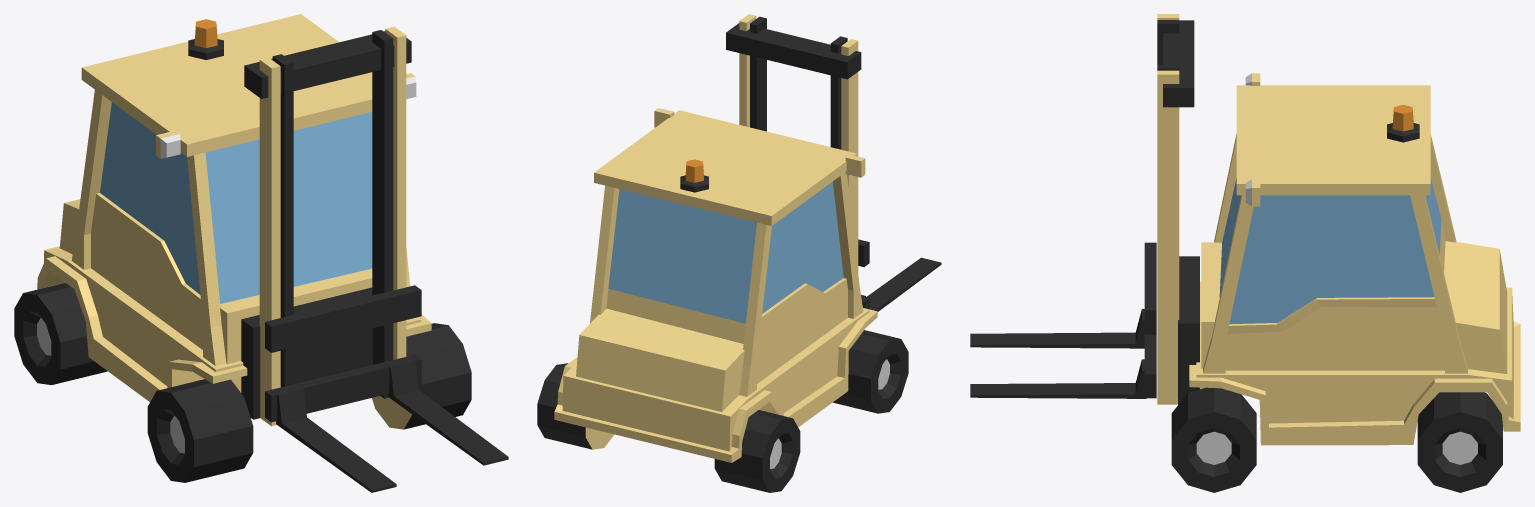
File: погрузчик лоу поли.fbx
3 renders of one model, left to right at view 1: azimuth 30°, elevation 25°; view 2: azimuth 150°, elevation 25°; view 3: azimuth 270°, elevation 25°, orthographic. The views are drawn at different scales.
Parts seen in each view (by area): view 1: Cube, Cube.004, Cube.008, Cube.002, Cube.001, Cube.010, Cube.009, Cube.013, Cube.012, Cube.006; view 2: Cube, Cube.004, Cube.008, Cube.010, Cube.001, Cube.014, Cube.002; view 3: Cube, Cube.004, Cube.002, Cube.009, Cube.014, Cube.008, Cube.013, Cube.015.
Part boxes in pixels (x1,y1,x2,y2): Cube: [37, 14, 431, 426]; Cube.004: [100, 102, 372, 303]; Cube.008: [241, 30, 411, 419]; Cube.002: [265, 285, 508, 492]; Cube.001: [147, 379, 253, 482]; Cube.010: [14, 283, 107, 384]; Cube.009: [404, 323, 471, 429]; Cube.013: [372, 396, 411, 429]; Cube.012: [160, 76, 416, 158]; Cube.006: [194, 19, 217, 48]; Cube: [554, 14, 877, 462]; Cube.004: [608, 181, 843, 323]; Cube.008: [726, 16, 861, 149]; Cube.010: [714, 410, 800, 492]; Cube.001: [833, 330, 908, 413]; Cube.014: [537, 363, 592, 449]; Cube.002: [858, 239, 941, 311]; Cube: [1157, 14, 1520, 445]; Cube.004: [1219, 177, 1441, 324]; Cube.002: [970, 242, 1156, 398]; Cube.009: [1171, 387, 1256, 492]; Cube.014: [1417, 392, 1502, 492]; Cube.008: [1157, 20, 1199, 404]; Cube.013: [1196, 431, 1231, 464]; Cube.015: [1442, 431, 1477, 464].
Bounding box in the file's own units: 236 × 339 × 439.
